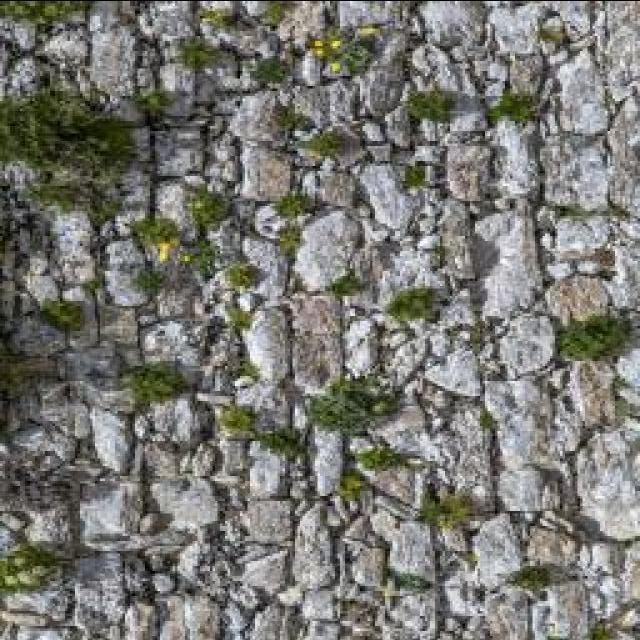crack: (134, 13, 251, 612), (78, 478, 142, 545), (149, 127, 209, 187), (138, 437, 196, 491), (95, 297, 150, 350)
dampness: (58, 371, 309, 629)
vegetation: (4, 88, 146, 204), (128, 185, 245, 291), (474, 206, 546, 321), (84, 8, 143, 101), (550, 54, 614, 137), (409, 39, 483, 107), (69, 557, 136, 632), (546, 141, 615, 213), (377, 238, 451, 302), (354, 162, 419, 233), (488, 119, 544, 199), (282, 81, 353, 140), (235, 140, 298, 205), (265, 196, 326, 263), (138, 316, 209, 373), (433, 204, 483, 284), (604, 96, 640, 206), (7, 419, 75, 476), (544, 274, 617, 327), (100, 237, 155, 307), (309, 26, 381, 79), (236, 227, 293, 293), (546, 213, 616, 266), (86, 405, 136, 478), (442, 138, 498, 203), (57, 335, 121, 391), (352, 61, 410, 122), (226, 93, 289, 149), (5, 308, 71, 361), (304, 156, 364, 213), (0, 543, 69, 592), (36, 381, 91, 441), (483, 4, 545, 56), (415, 2, 482, 49), (119, 363, 192, 406), (138, 2, 202, 51), (147, 277, 209, 327), (274, 2, 337, 51), (435, 88, 492, 142), (40, 22, 95, 75), (4, 351, 70, 394), (151, 60, 205, 111), (600, 243, 640, 311), (20, 501, 74, 551), (242, 424, 310, 463), (3, 585, 71, 624), (185, 183, 236, 232), (384, 286, 445, 326), (400, 86, 459, 126), (172, 37, 234, 75), (133, 212, 186, 256), (332, 1, 398, 35), (22, 269, 68, 313), (488, 89, 543, 125), (299, 128, 352, 165), (378, 102, 418, 149), (129, 261, 175, 299), (251, 201, 291, 244), (5, 54, 44, 98), (323, 269, 373, 303), (250, 54, 296, 90), (40, 298, 88, 332), (135, 85, 184, 118), (297, 50, 327, 89), (401, 162, 434, 193)
